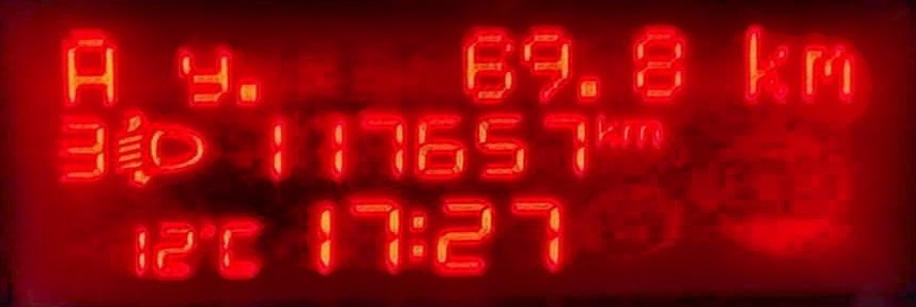-: (227, 71, 263, 110), (573, 68, 604, 107)
1: (302, 196, 338, 277), (258, 111, 294, 183), (316, 112, 353, 179), (118, 217, 149, 280)
2: (431, 189, 496, 282), (149, 213, 194, 283)
3: (52, 112, 107, 187)
5: (471, 107, 533, 183)
6: (447, 22, 519, 107), (414, 108, 468, 185)
7: (501, 189, 569, 276), (342, 191, 402, 278), (353, 107, 410, 182), (536, 108, 590, 183)
8: (623, 19, 690, 107)
9: (517, 22, 572, 107)
X: (51, 23, 121, 108), (732, 18, 793, 107), (795, 37, 863, 108), (171, 42, 227, 111), (216, 212, 263, 283), (621, 114, 666, 151), (404, 204, 426, 267), (592, 107, 621, 151)
